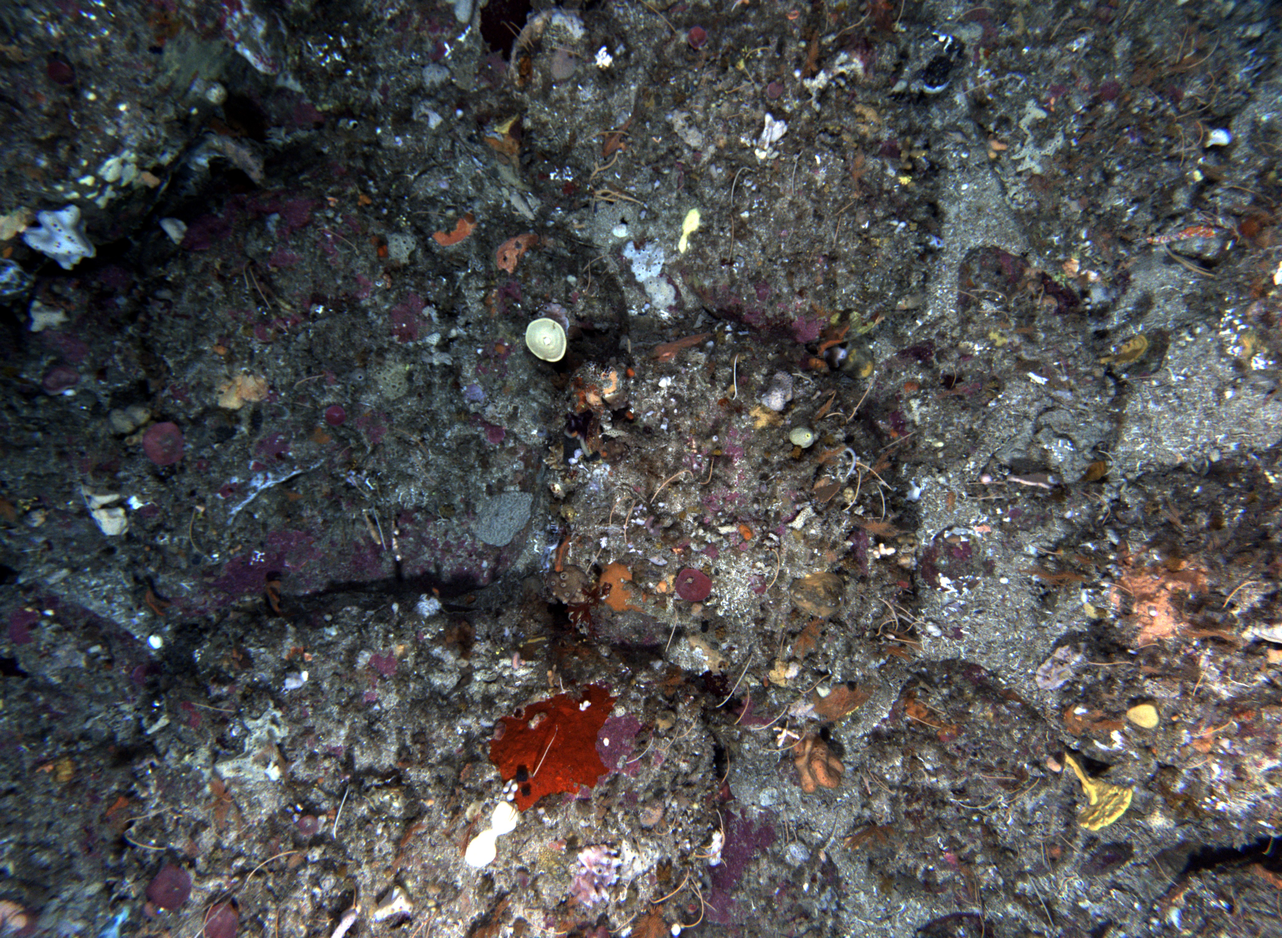Brachionichthyidae: (596, 111, 639, 158)
